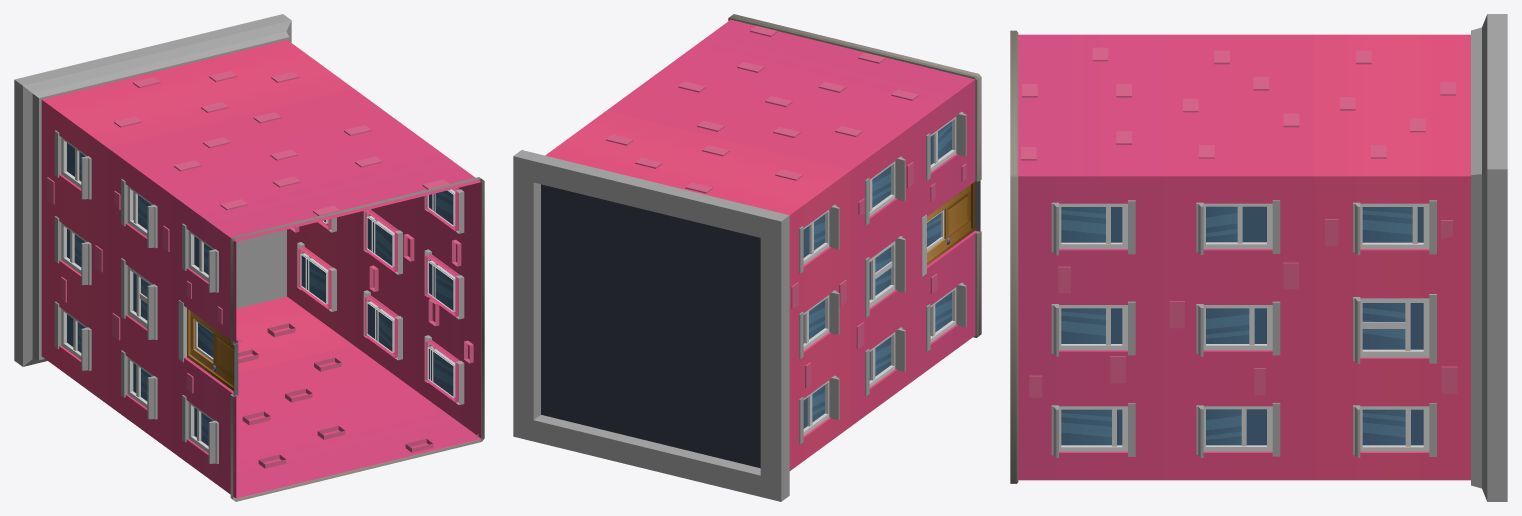
File: Building_2_6_B.fbx
3 views of the same model, side by side, from view 1: azimuth 30°, elevation 25°; view 2: azimuth 150°, elevation 25°; view 3: azimuth 270°, elevation 25° (orthographic). The views are drawn at different scales.
Parts seen in each view (by area): view 1: Building_2_6_B; view 2: Building_2_6_B; view 3: Building_2_6_B.
Part boxes in pixels (bbox=[...]): Building_2_6_B: bbox=[14, 14, 484, 501]; Building_2_6_B: bbox=[513, 14, 981, 501]; Building_2_6_B: bbox=[1010, 14, 1507, 501].
Size of the model in its own units: 620 by 620 by 840.
